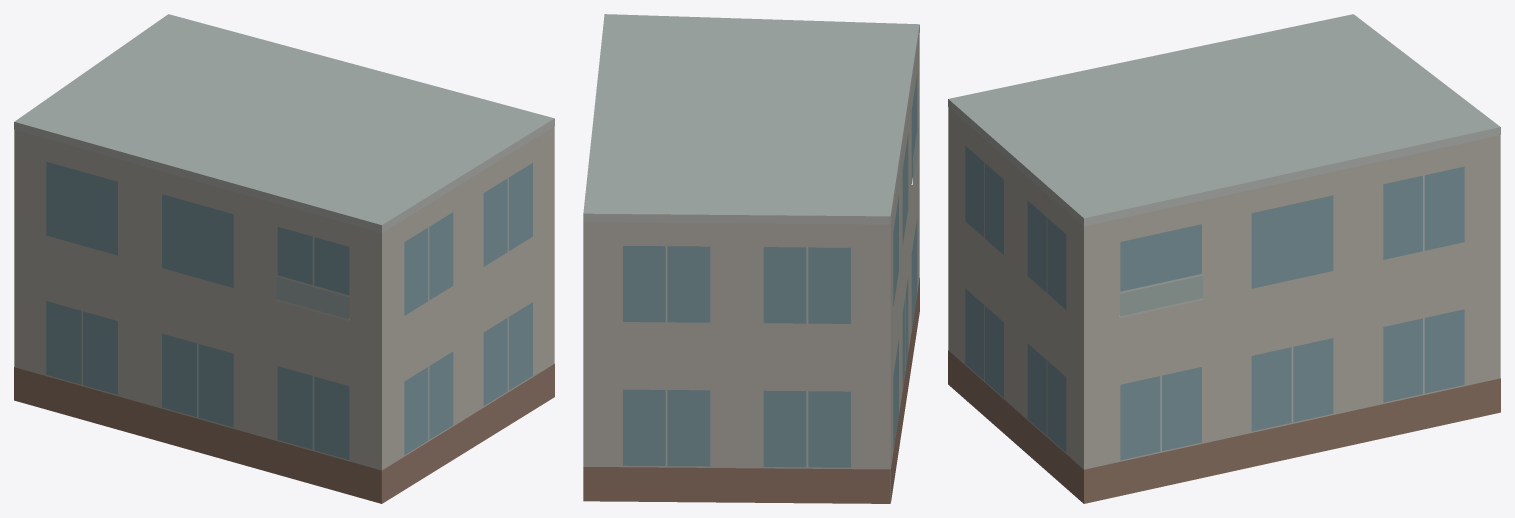
The model's file is survey-upis-32740611.glb.
3 renders of one model, left to right at view 1: azimuth 30°, elevation 25°; view 2: azimuth 150°, elevation 25°; view 3: azimuth 270°, elevation 25°, orthographic. The views are drawn at different scales.
Visible parts, largest first — view 1: survey-upis-32740611.tmp; view 2: survey-upis-32740611.tmp; view 3: survey-upis-32740611.tmp.
Boxes of the visible parts, bbox=[...] form: survey-upis-32740611.tmp: bbox=[14, 14, 554, 503]; survey-upis-32740611.tmp: bbox=[583, 14, 919, 503]; survey-upis-32740611.tmp: bbox=[948, 14, 1500, 503].
Size of the model in its own units: 13.29 by 8.65 by 15.18.
